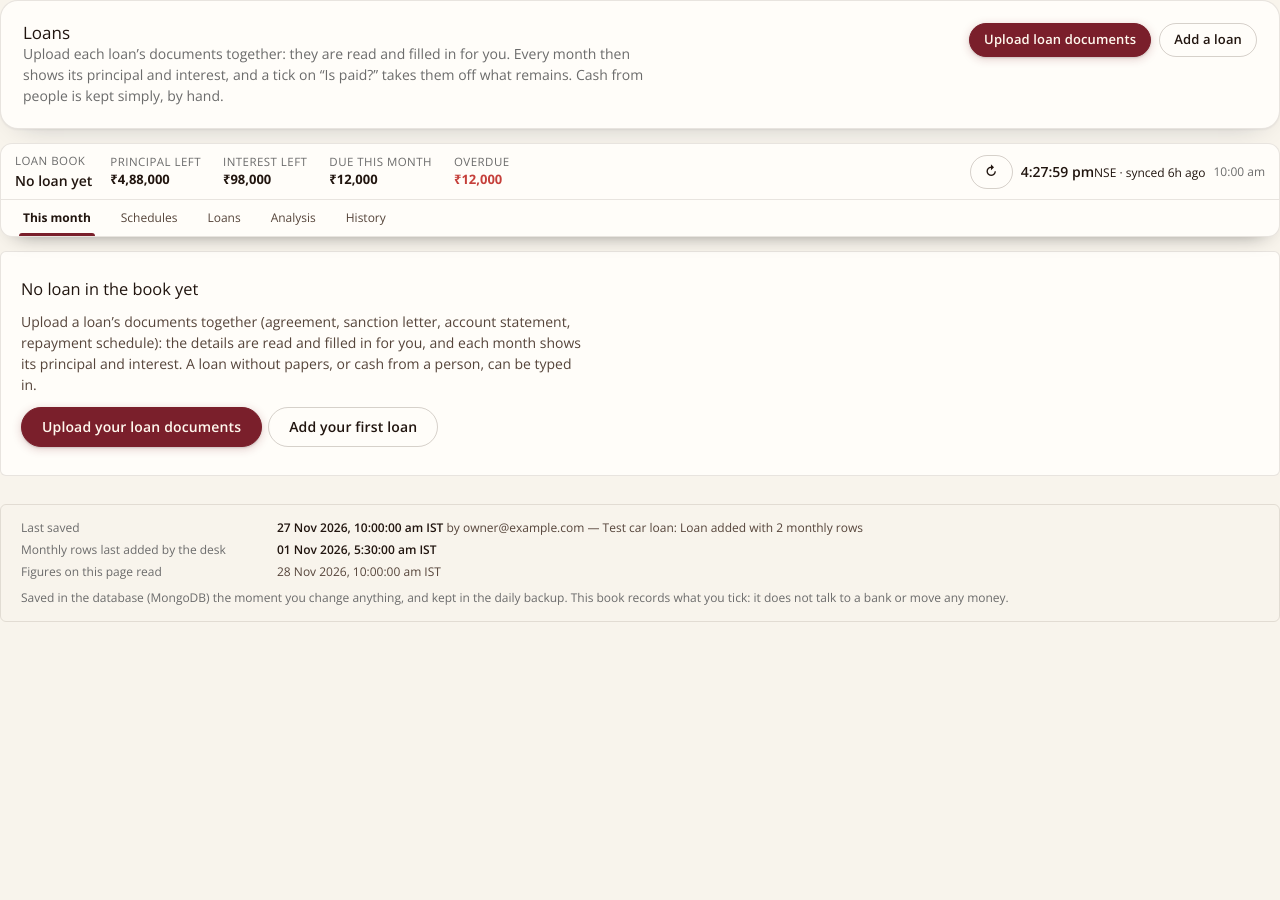
Test case: an empty book says how to begin, and the form says what will happen before anything is saved
Expected: the button "Upload your loan documents" is shown, [21,407,262,447]
What coordinates should you click on to do the following:
click the button "Add your first loan"
I would click on:
 (353, 427)
Its box is [268,407,438,447].
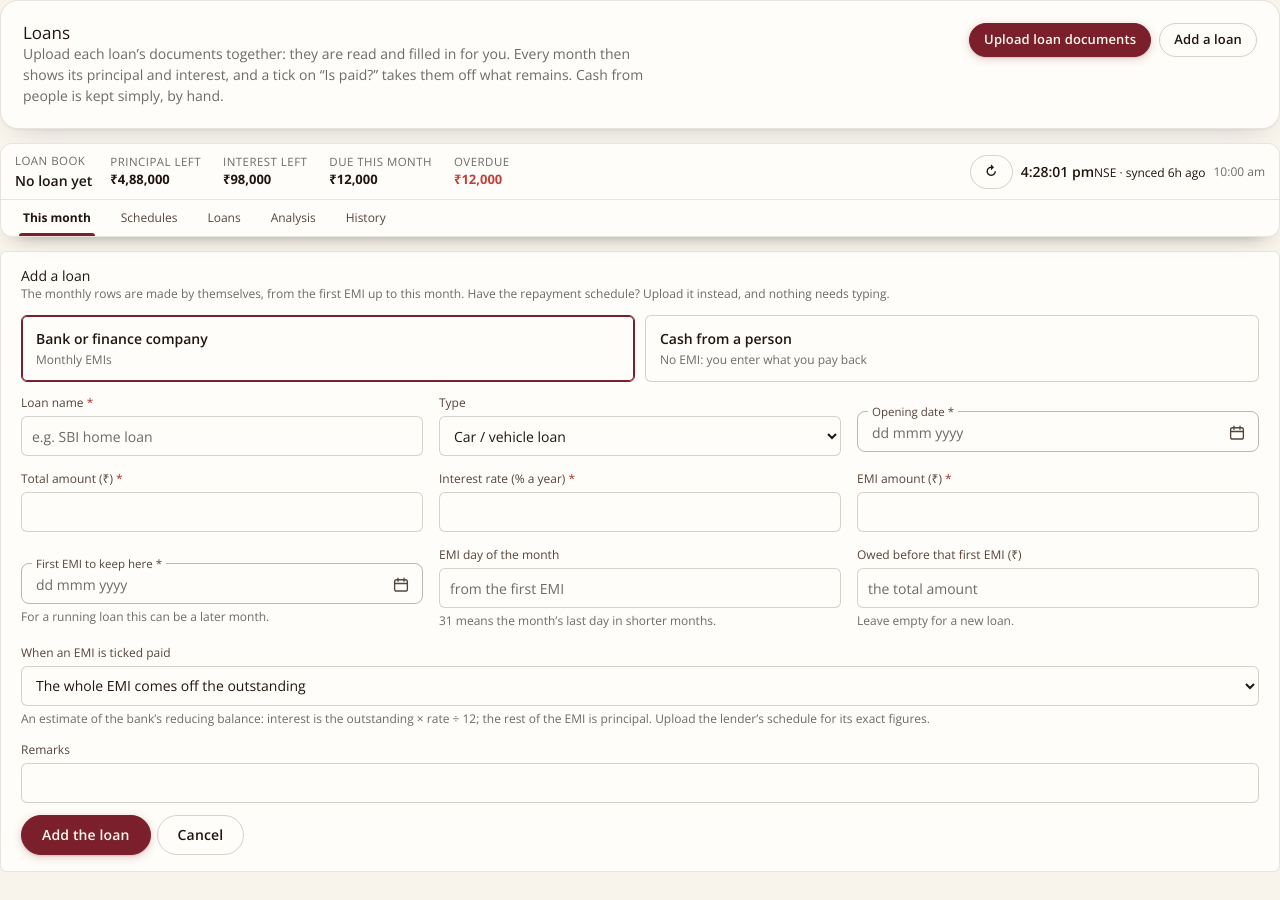
Expected: the form "Add a loan" is shown
